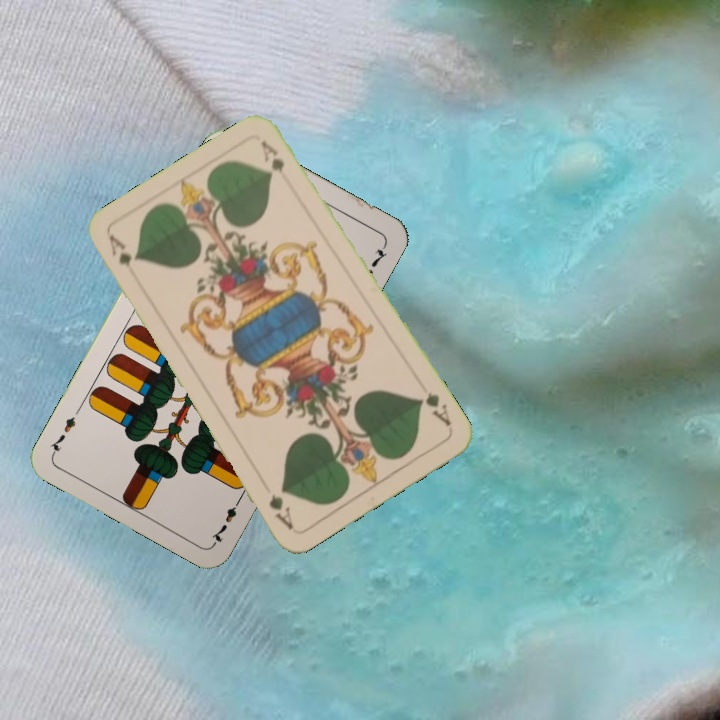E7: (207, 492, 245, 546)
GA: (104, 231, 142, 284), (414, 388, 454, 429)
